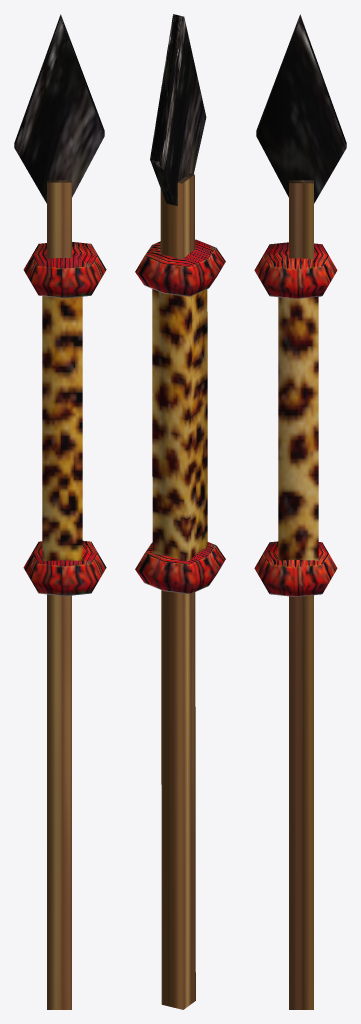
File: maya_lana_curta_1.dae
The picture shows the model from 3 angles, left to right: view 1: azimuth 90°, elevation 25°; view 2: azimuth 150°, elevation 25°; view 3: azimuth 270°, elevation 25°; orthographic projection.
Visible parts, largest first — view 1: maya_lana_curta_1; view 2: maya_lana_curta_1; view 3: maya_lana_curta_1.
Part boxes in pixels (left/top/right/bottom): maya_lana_curta_1: left=14, top=14, right=106, bottom=1009; maya_lana_curta_1: left=135, top=14, right=225, bottom=1009; maya_lana_curta_1: left=254, top=14, right=346, bottom=1009.
Size of the model in its own units: 0.3411 by 0.379 by 4.48.
Materials: 1 (1 with a texture image).
